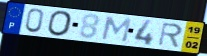0: (25, 8, 46, 34)
4: (132, 18, 157, 47)
8: (79, 13, 103, 41)
M: (100, 15, 133, 44)
O: (47, 10, 74, 37)
R: (157, 22, 184, 49)
